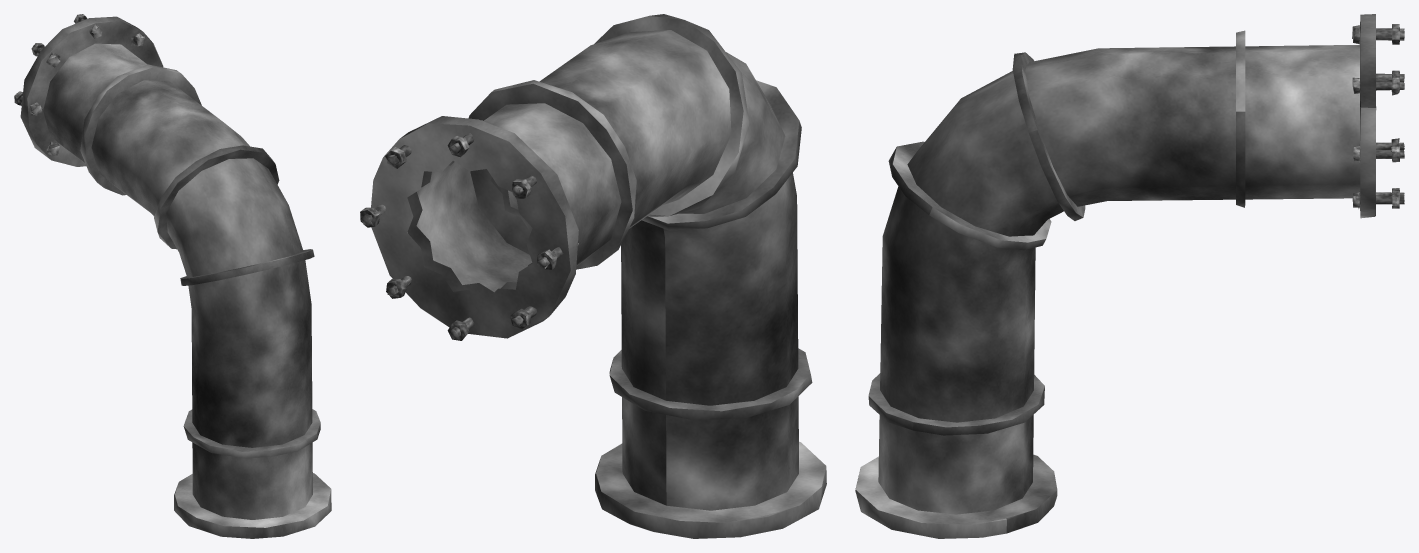
File: SM_pipe_02.fbx
3 renders of one model, left to right at view 1: azimuth 30°, elevation 25°; view 2: azimuth 150°, elevation 25°; view 3: azimuth 270°, elevation 25°, orthographic. The views are drawn at different scales.
Parts seen in each view (by area): view 1: SM_pipe_02_LOD0; view 2: SM_pipe_02_LOD0; view 3: SM_pipe_02_LOD0.
Part boxes in pixels (<box>): SM_pipe_02_LOD0: <box>14,14,331,538</box>; SM_pipe_02_LOD0: <box>360,14,826,538</box>; SM_pipe_02_LOD0: <box>855,14,1404,538</box>.
Size of the model in its own units: 24.22 by 65.49 by 62.02.
